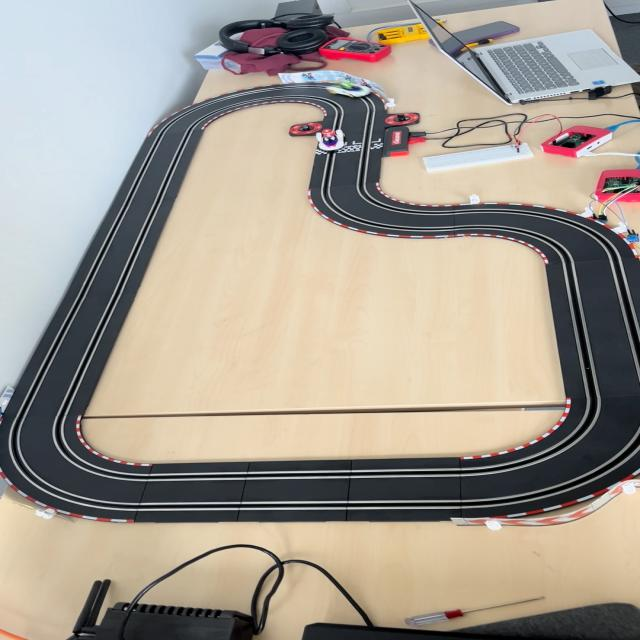mario: (315, 127, 346, 154)
yoshi: (323, 78, 372, 98)
